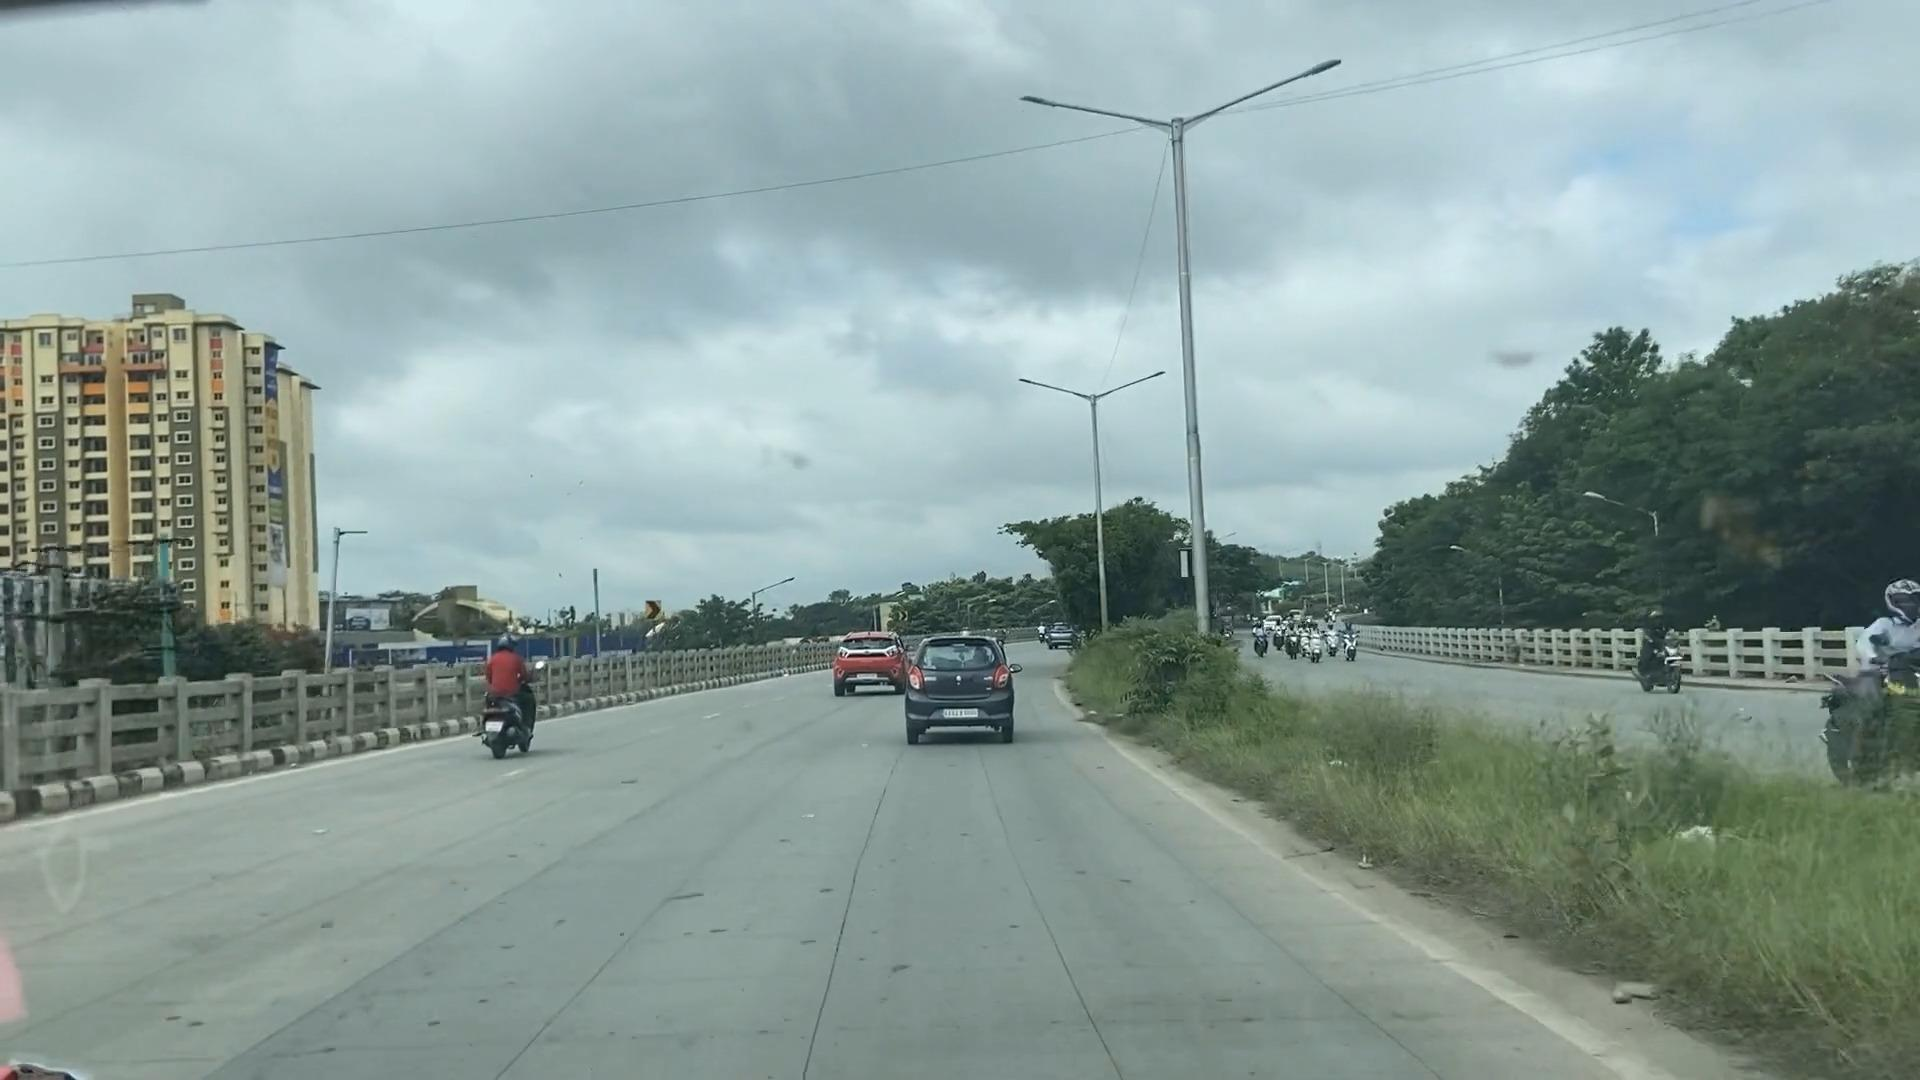LMV: (913, 642, 1004, 731), (480, 638, 542, 742), (833, 628, 891, 702)
